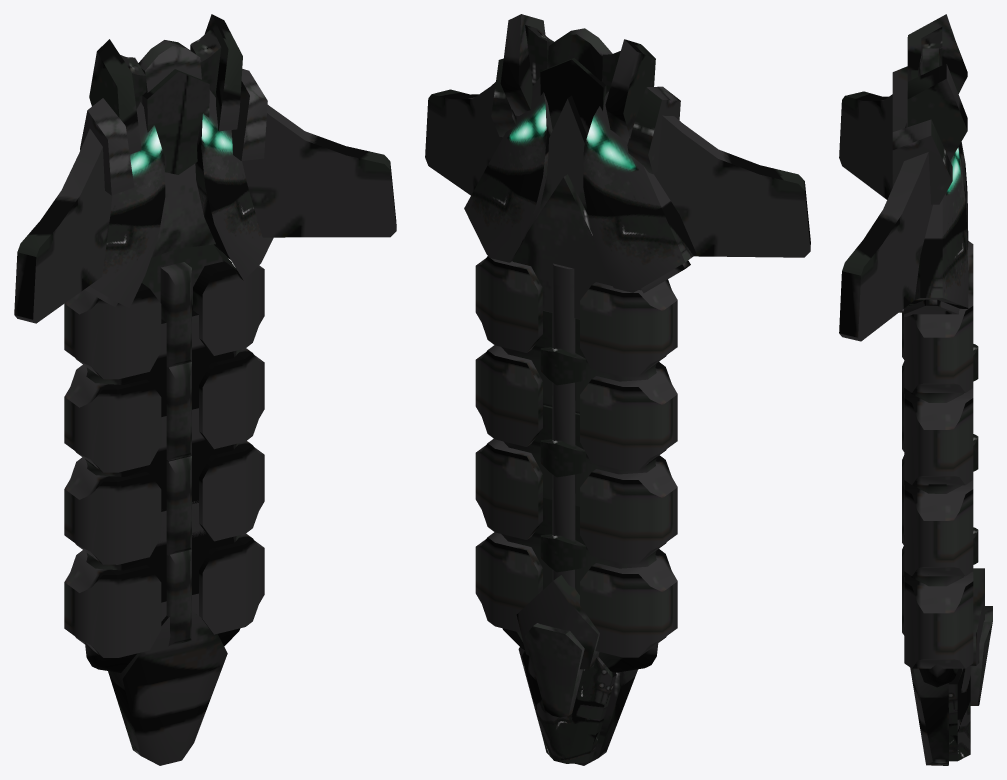
The model's file is Looter.fbx.
3 views of the same model, side by side, from view 1: azimuth 30°, elevation 25°; view 2: azimuth 150°, elevation 25°; view 3: azimuth 270°, elevation 25° (orthographic).
Parts seen in each view (by area): view 1: ship20g.001; view 2: ship20g.001; view 3: ship20g.001.
Part boxes in pixels (x1=…): ship20g.001: x1=14, y1=14, x2=396, y2=765; ship20g.001: x1=425, y1=14, x2=810, y2=765; ship20g.001: x1=839, y1=14, x2=992, y2=765.
Bounding box in the file's own units: 9741 × 17762 × 3431.
Materials: 1 (1 with a texture image).
